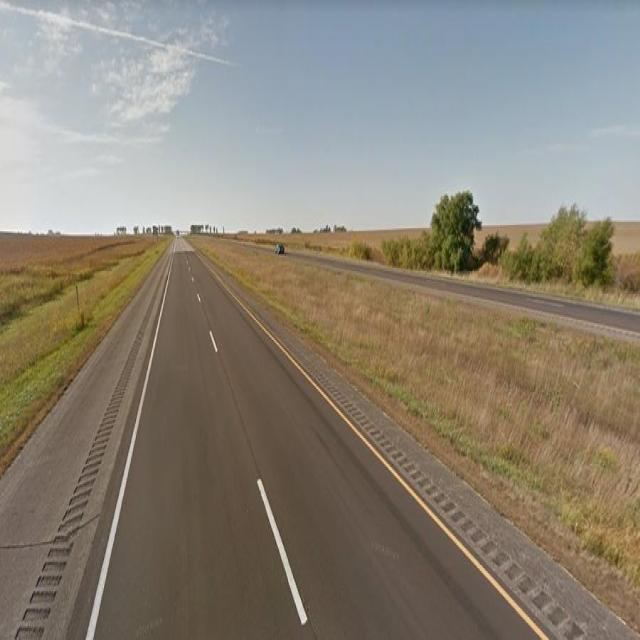car: (273, 236, 286, 261)
